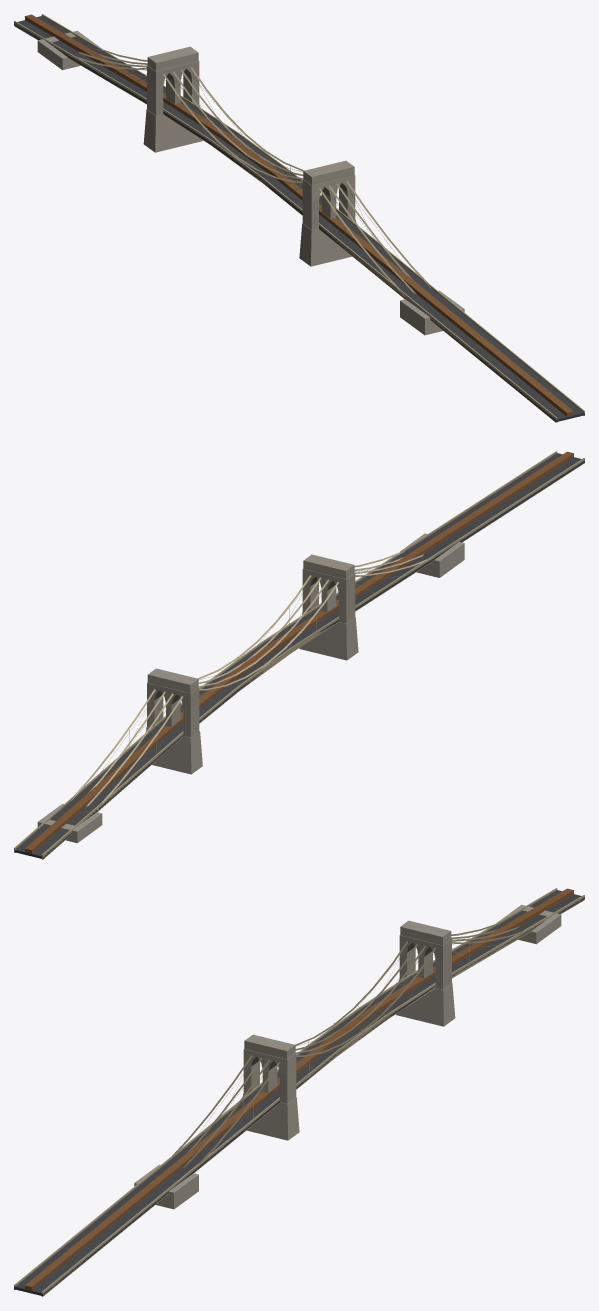
The picture shows the model from 3 angles, top to bottom: view 1: azimuth 30°, elevation 25°; view 2: azimuth 150°, elevation 25°; view 3: azimuth 330°, elevation 25°; orthographic projection.
Parts seen in each view (by area): view 1: brooklyn-bridge-lod2; view 2: brooklyn-bridge-lod2; view 3: brooklyn-bridge-lod2.
Part boxes in pixels (x1,y1,x2,y2): brooklyn-bridge-lod2: (14,14,584,422); brooklyn-bridge-lod2: (14,451,584,859); brooklyn-bridge-lod2: (14,888,584,1296).
Size of the model in its own units: 85.97 by 151 by 1693.
